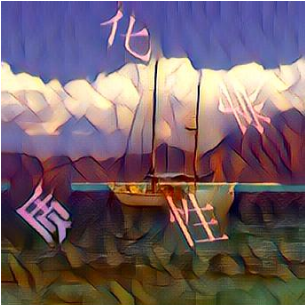hanzi: (11, 177, 89, 254), (158, 186, 233, 254), (95, 4, 163, 71), (208, 80, 285, 136)
